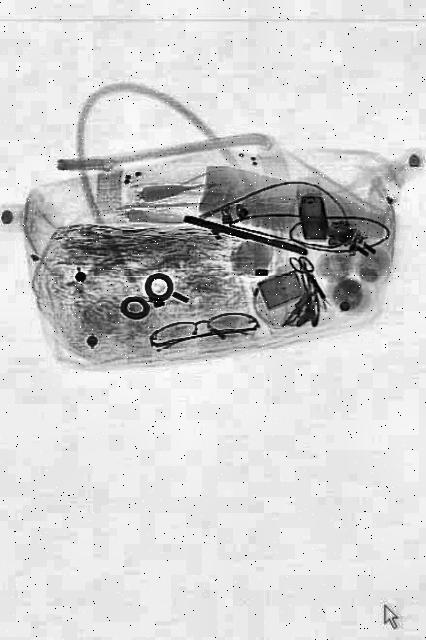Scissors: (286, 243, 330, 307)
